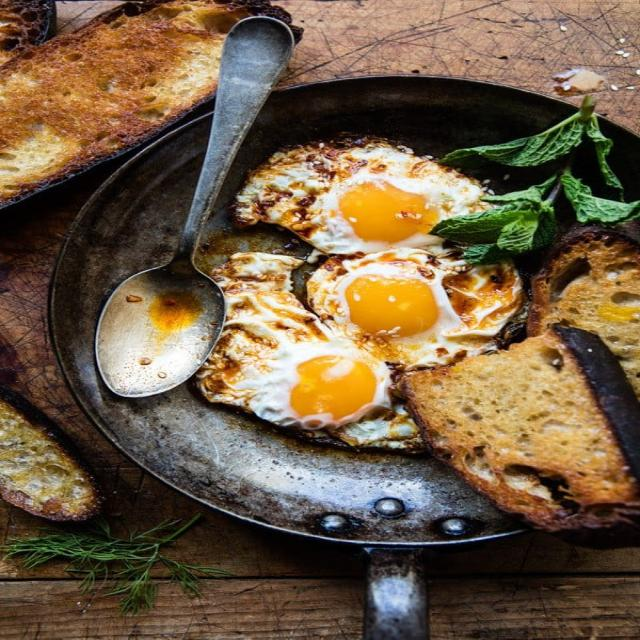Bread: (0, 0, 291, 204), (399, 325, 639, 548), (529, 226, 639, 397)
Egg: (197, 252, 390, 429), (234, 136, 491, 254), (308, 249, 523, 370)
